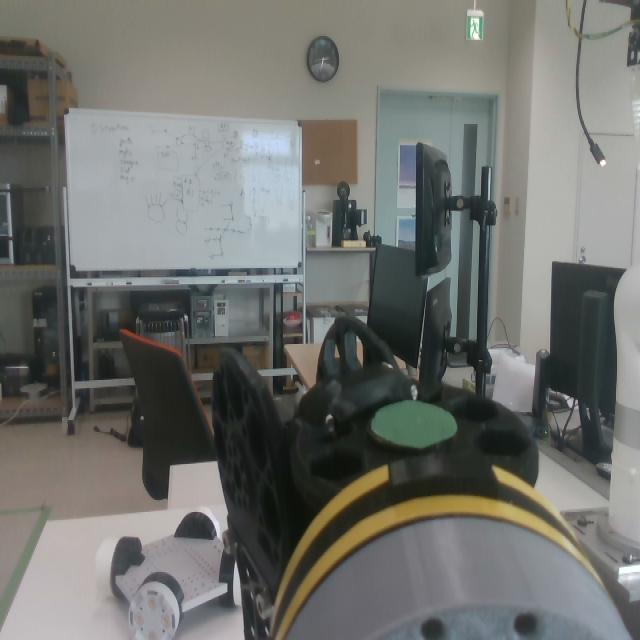body_connector: (281, 515, 640, 640)
connection: (257, 447, 635, 640)
leg: (211, 317, 600, 640)
leg_connector: (256, 452, 595, 640)
marker: (369, 401, 458, 451)
